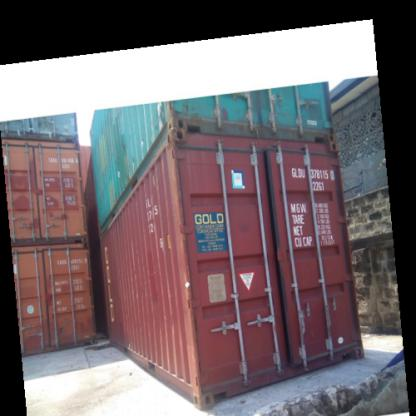Damage: (167, 142, 190, 226)
